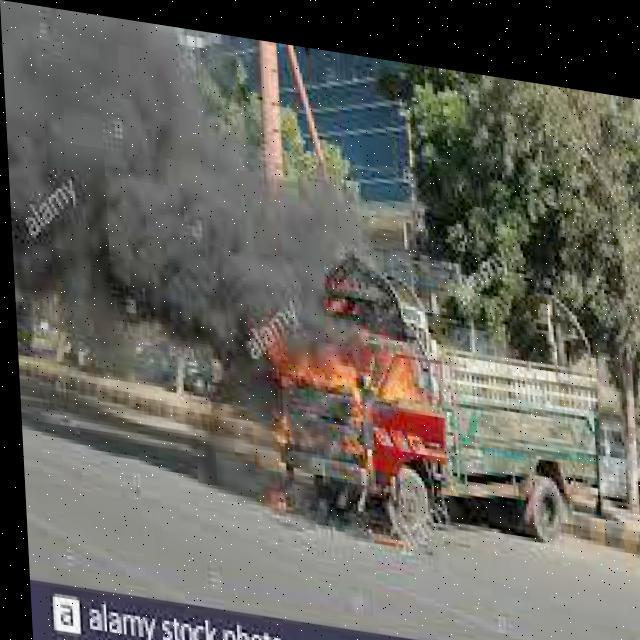Fire: (250, 284, 442, 418)
